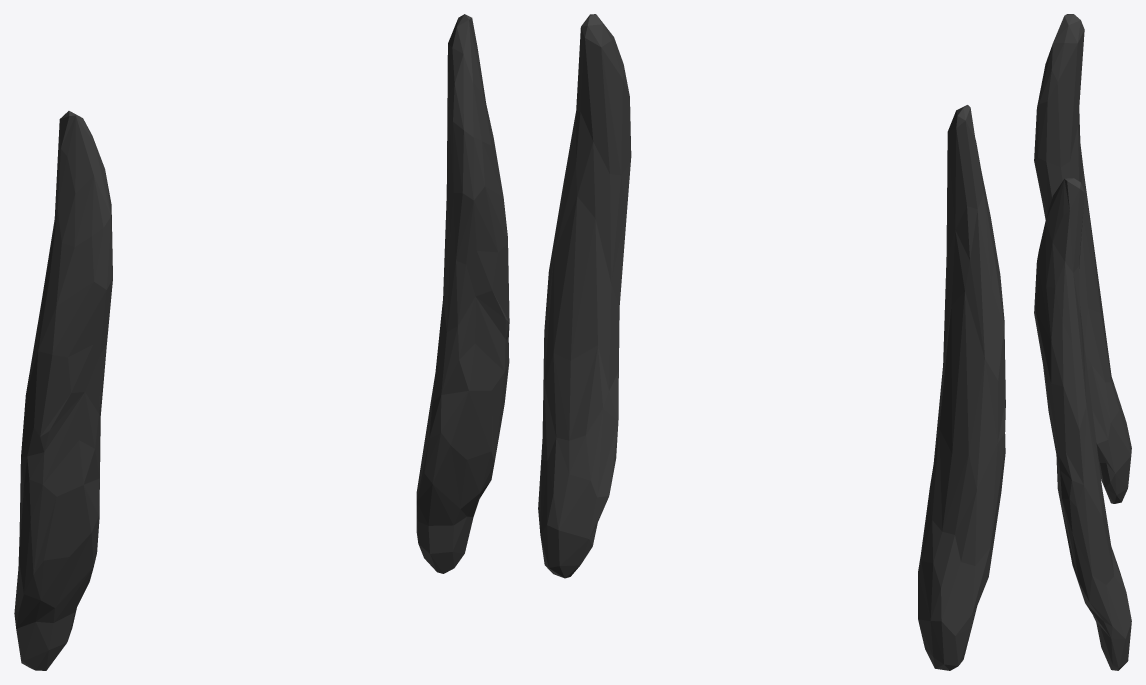
File: m_flexor_digitorum_profundus_radial.glb
The picture shows the model from 3 angles, left to right: view 1: azimuth 30°, elevation 25°; view 2: azimuth 150°, elevation 25°; view 3: azimuth 270°, elevation 25°; orthographic projection. The views are drawn at different scales.
Visible parts, largest first — view 1: m_flexor_digitorum_profundus_radial; view 2: m_flexor_digitorum_profundus_radial; view 3: m_flexor_digitorum_profundus_radial.
Part boxes in pixels (x1,y1,x2,y2): m_flexor_digitorum_profundus_radial: (14,14,509,670); m_flexor_digitorum_profundus_radial: (538,14,1005,670); m_flexor_digitorum_profundus_radial: (1034,14,1131,670).
Size of the model in its own units: 0.00449 by 0.00513 by 0.000929.
1 material, 1 textured.
